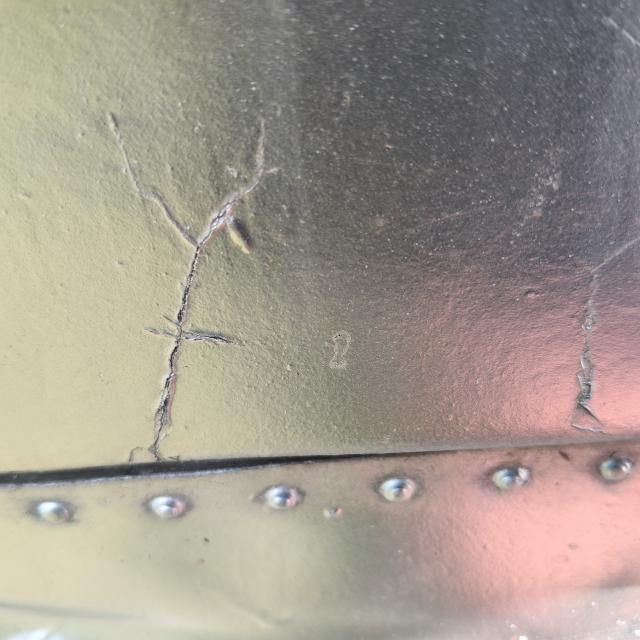crack: (118, 100, 292, 476)
